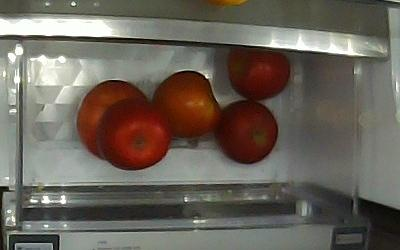apple: (78, 80, 152, 160), (97, 97, 171, 171), (153, 70, 222, 138), (216, 100, 281, 165), (228, 49, 293, 101)
